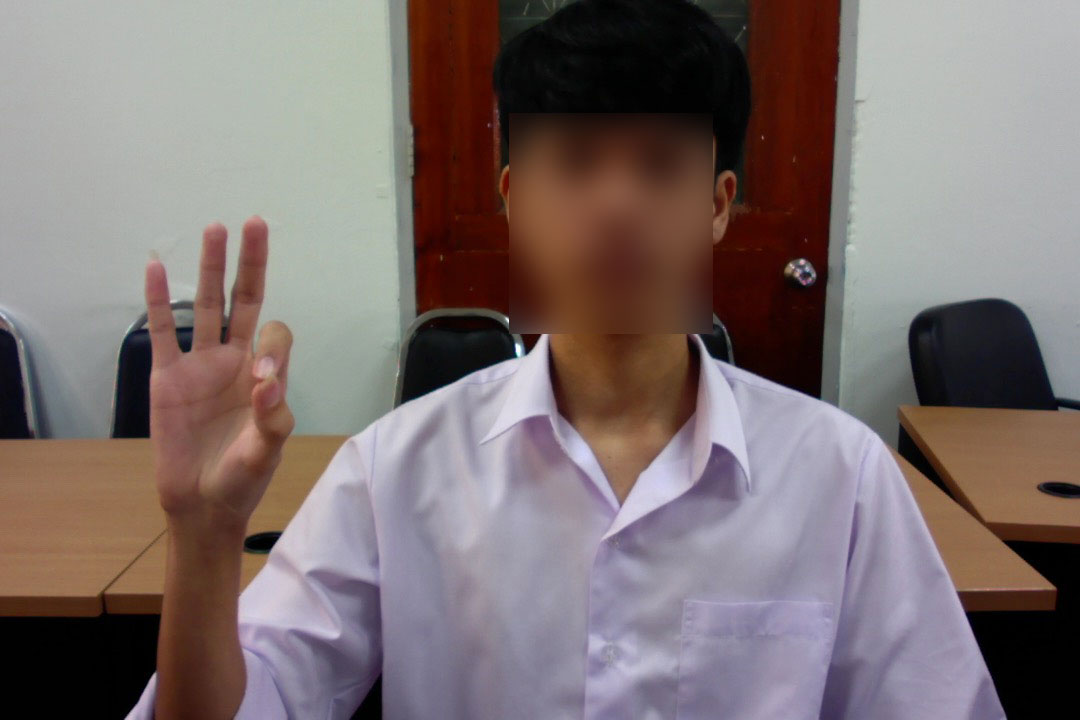for: (102, 172, 326, 573)
